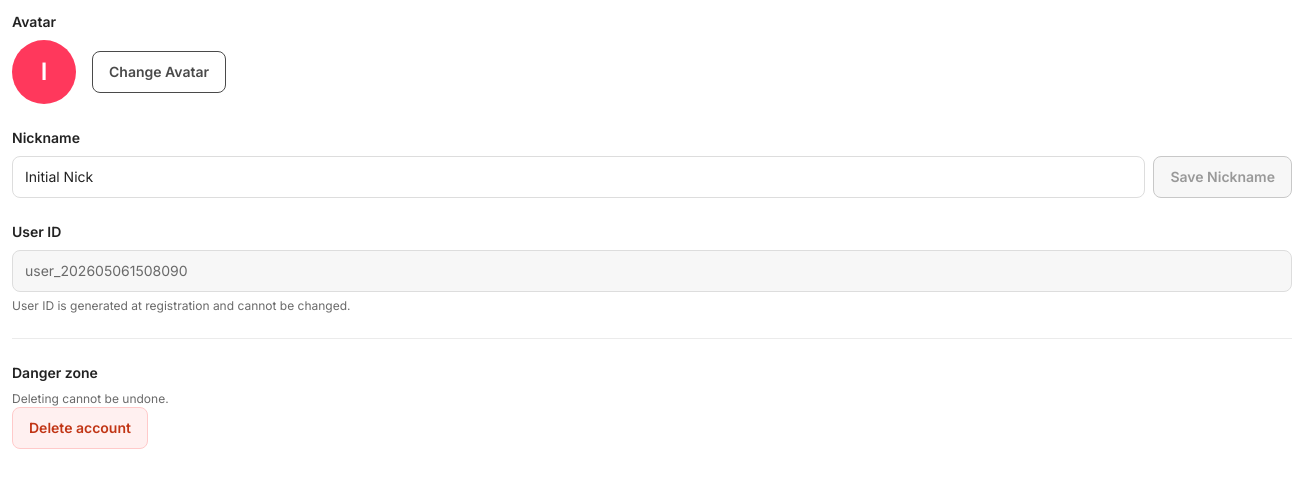
AccountPanel › highlights and saves nickname only after it changes
Expected: the button "Save Nickname" is disabled, [1153,156,1292,198]
Replace the text in the 1st field showing "Initial Nick" with "New Nick" at coordinates (579, 177), box [12,156,1145,198]
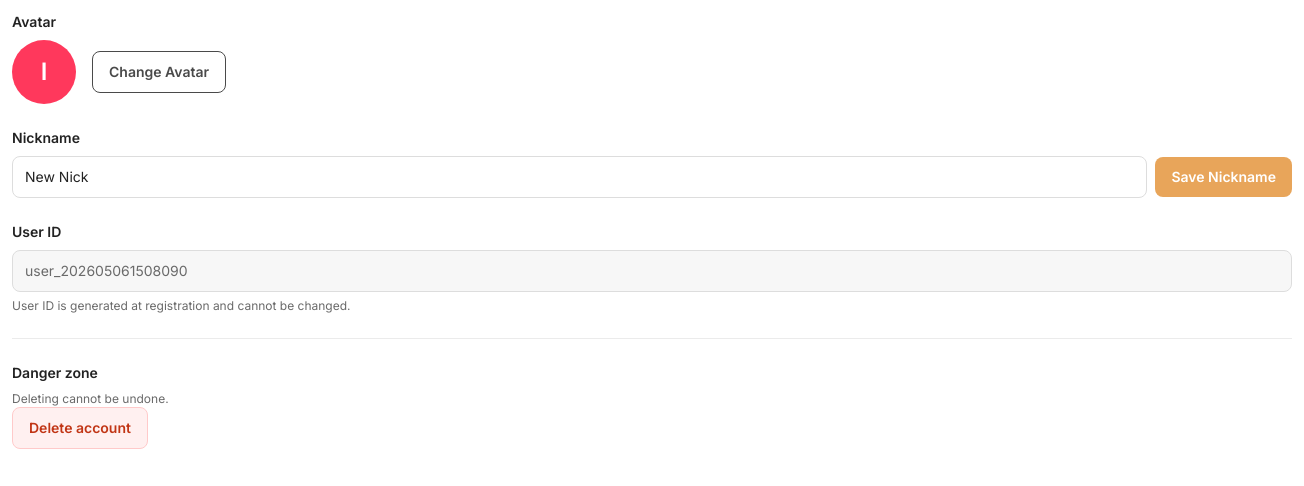
Expected: the button "Save Nickname" is enabled
Click the button "Save Nickname" at coordinates (1224, 177), box [1155,157,1292,197]
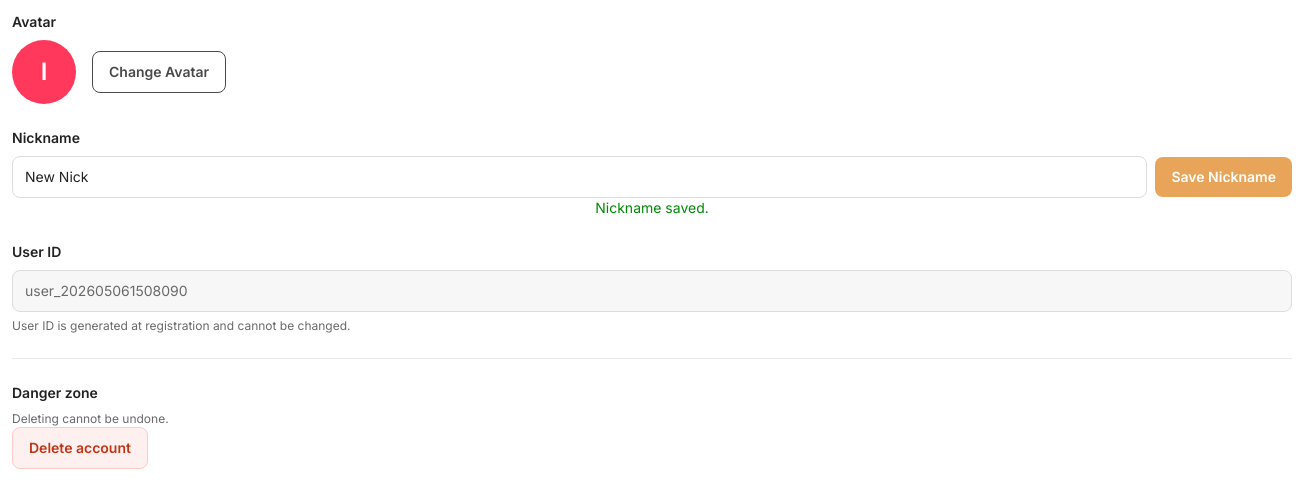
Expected: the text "Nickname saved." is shown, [595,199,709,216]
